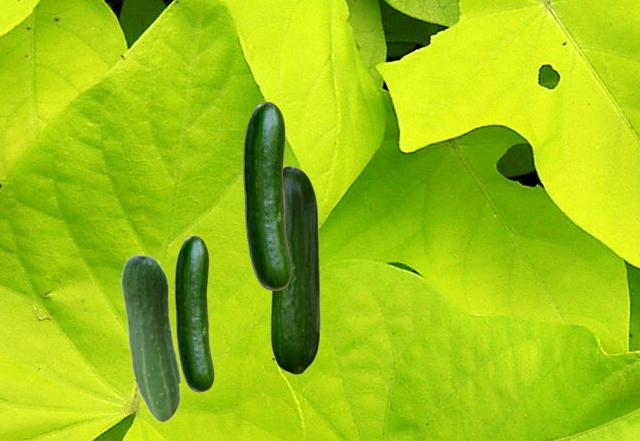cucumber: (269, 165, 320, 374), (120, 253, 181, 422), (243, 102, 290, 289), (174, 235, 213, 391)
